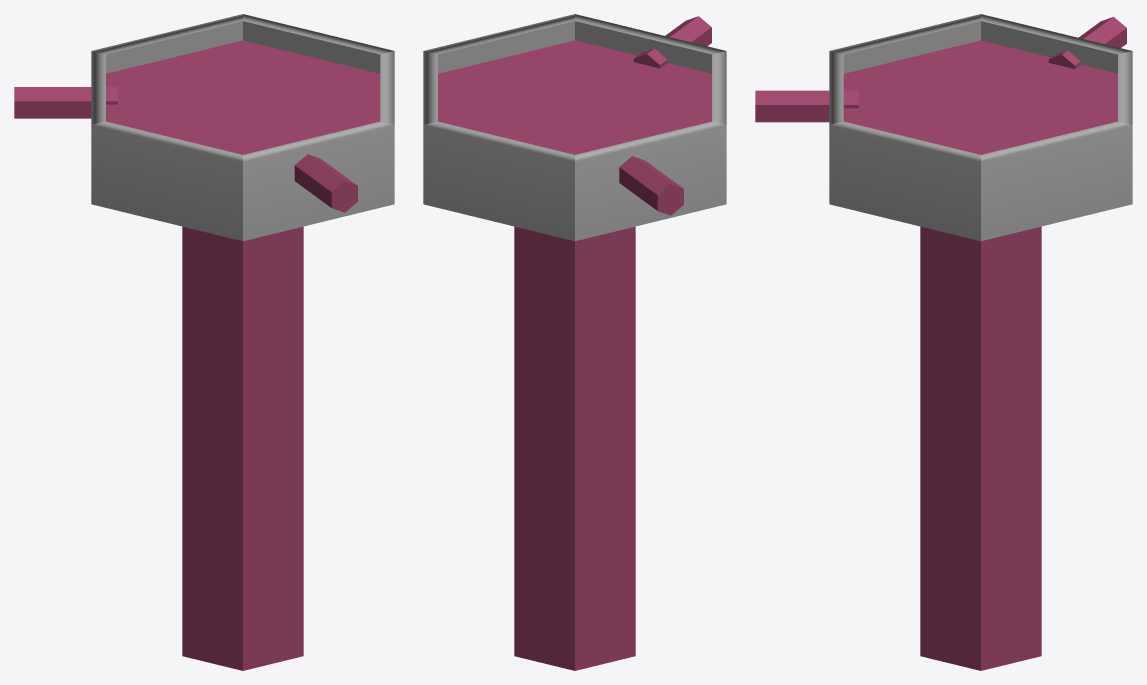
File: PoolRed.fbx
3 views of the same model, side by side, from view 1: azimuth 30°, elevation 25°; view 2: azimuth 150°, elevation 25°; view 3: azimuth 270°, elevation 25° (orthographic).
Visible parts, largest first — view 1: redstand, Pool2Red, PoolRedWater, RedtoOrangePipe, RedtoVioletPipe; view 2: redstand, Pool2Red, PoolRedWater, RedtoOrangePipe, RedtoVioletPipe; view 3: redstand, Pool2Red, PoolRedWater, RedtoVioletPipe, RedtoOrangePipe.
Part boxes in pixels (box(x1,y1,x2,y2)): redstand: box(182, 226, 303, 670); Pool2Red: box(91, 14, 394, 241); PoolRedWater: box(106, 40, 380, 154); RedtoOrangePipe: box(14, 87, 117, 118); RedtoVioletPipe: box(294, 154, 357, 212); redstand: box(514, 226, 635, 670); Pool2Red: box(423, 14, 726, 241); PoolRedWater: box(438, 40, 711, 154); RedtoOrangePipe: box(619, 156, 683, 215); RedtoVioletPipe: box(633, 16, 711, 68); redstand: box(920, 226, 1041, 670); Pool2Red: box(829, 14, 1132, 241); PoolRedWater: box(843, 40, 1117, 154); RedtoVioletPipe: box(755, 90, 858, 122); RedtoOrangePipe: box(1048, 16, 1126, 68).
Bounding box in the file's own units: 0.0423 × 0.0698 × 0.0431.
